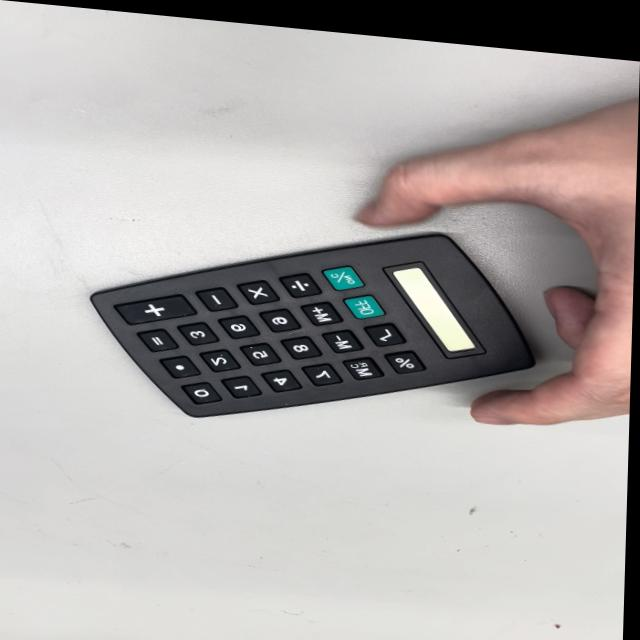calculator: (82, 196, 531, 450)
